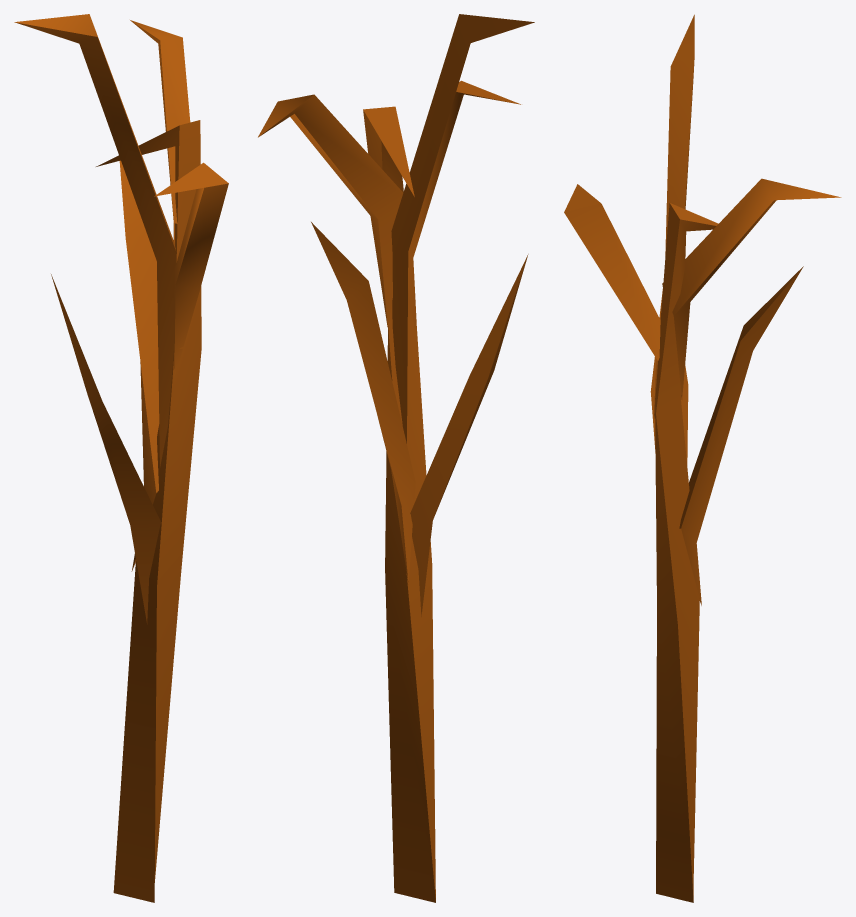
Rendered from Grass_5_1.fbx.
3 renders of one model, left to right at view 1: azimuth 30°, elevation 25°; view 2: azimuth 150°, elevation 25°; view 3: azimuth 270°, elevation 25°, orthographic. The views are drawn at different scales.
Parts seen in each view (by area): view 1: Grass_5_1; view 2: Grass_5_1; view 3: Grass_5_1.
Boxes of the visible parts, x1,y1,x2,y2 form: Grass_5_1: [14, 14, 228, 902]; Grass_5_1: [258, 14, 534, 902]; Grass_5_1: [564, 14, 841, 902].
Size of the model in its own units: 9.1 by 36.74 by 11.21.
